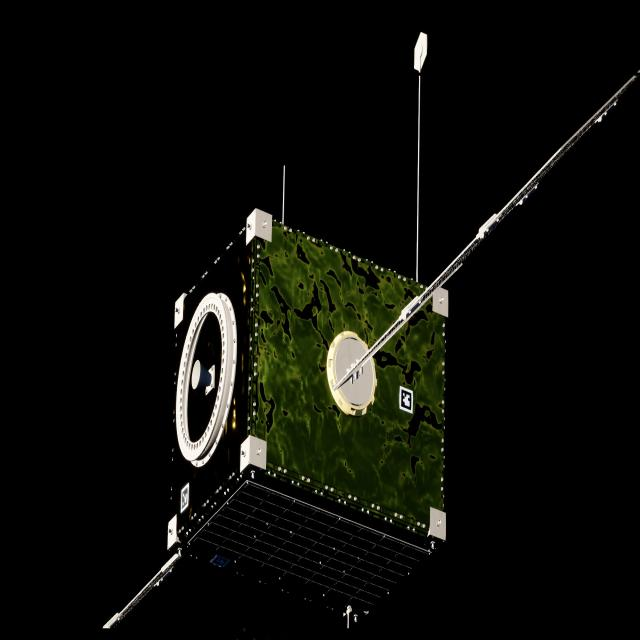satellite: (168, 111, 597, 597)
